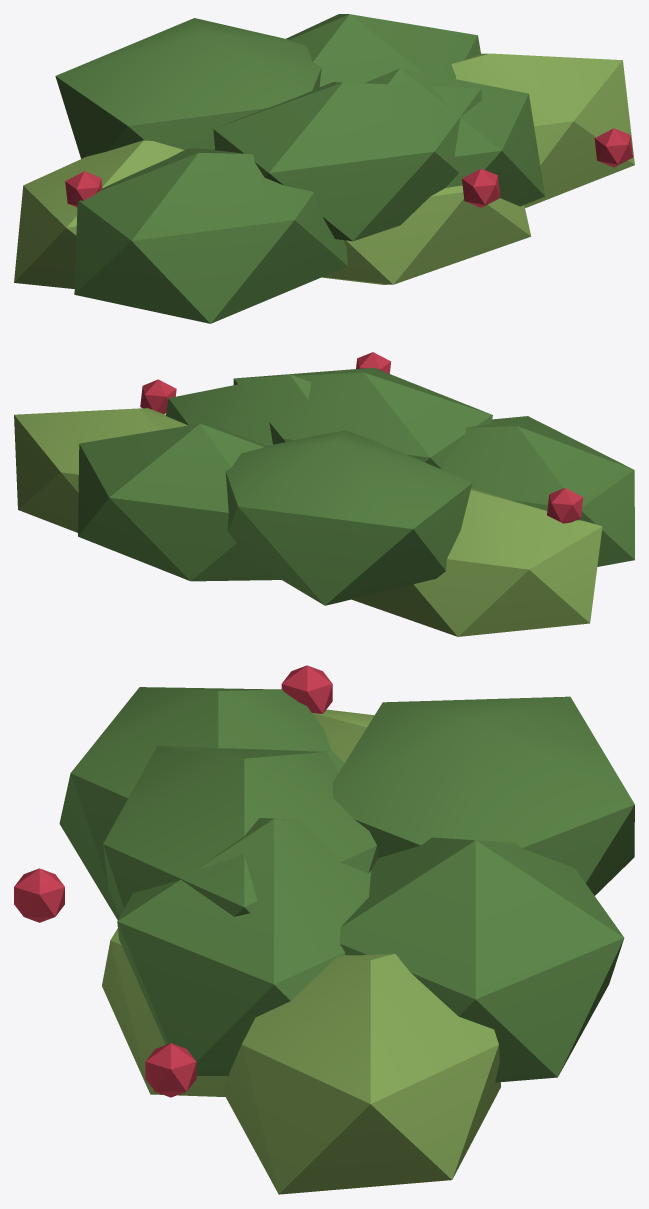
Rendered from bush_berry_b.glb.
3 renders of one model, top to bottom at view 1: azimuth 30°, elevation 25°; view 2: azimuth 150°, elevation 25°; view 3: azimuth 270°, elevation 25°, orthographic. The views are drawn at different scales.
Visible parts, largest first — view 1: bush_berry_b; view 2: bush_berry_b; view 3: bush_berry_b.
Part boxes in pixels (<box>): bush_berry_b: <box>14,14,634,323</box>; bush_berry_b: <box>14,352,634,636</box>; bush_berry_b: <box>14,665,634,1194</box>.
Bounding box in the file's own units: 2.34 × 0.7781 × 1.49.
